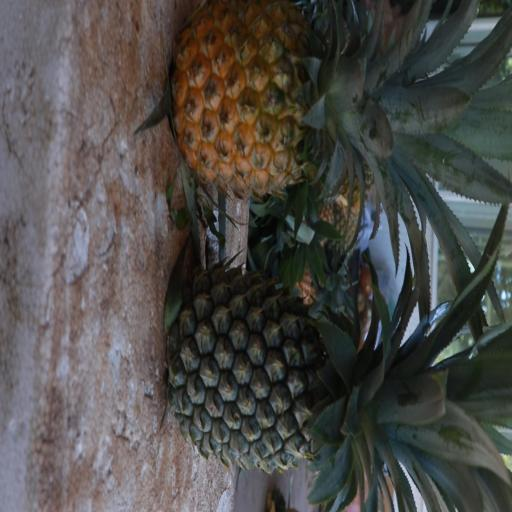Pineapple - v8 v1: (177, 0, 468, 196)
